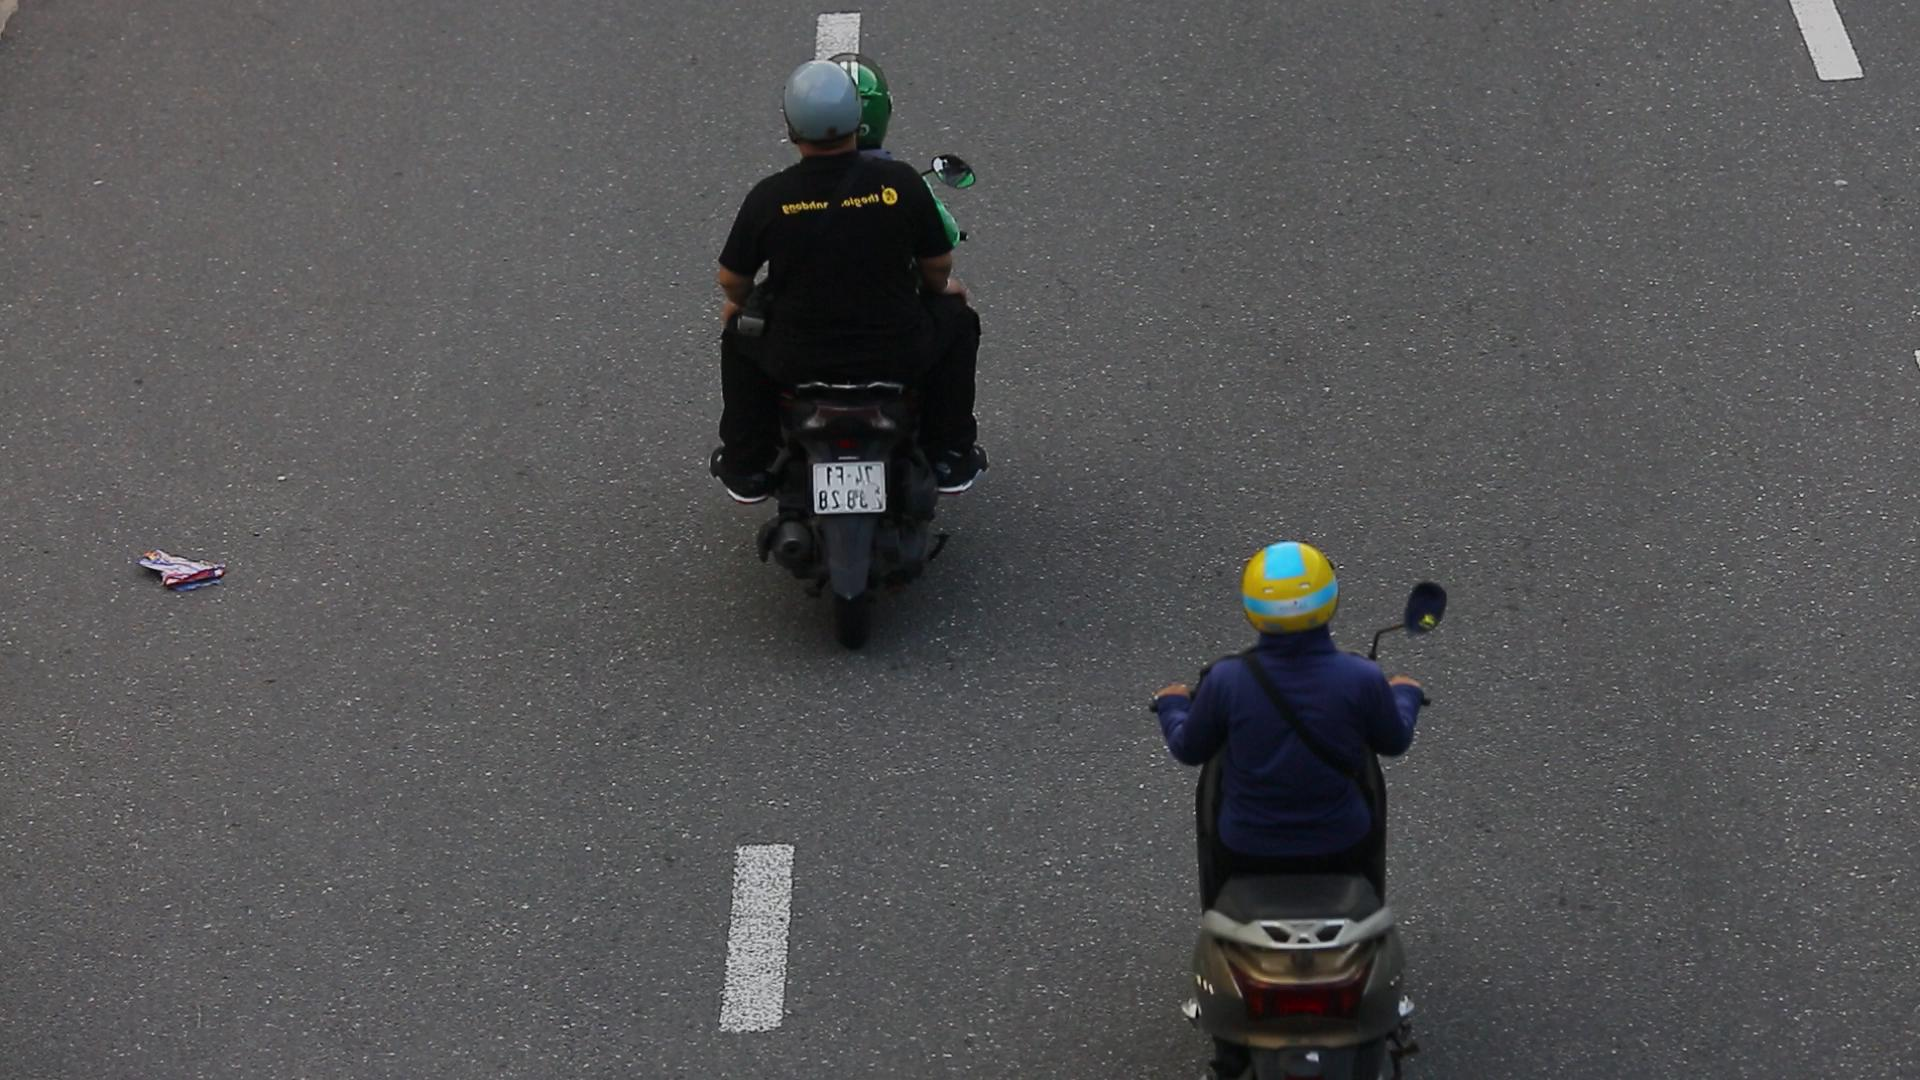motobike: (683, 40, 1006, 663)
